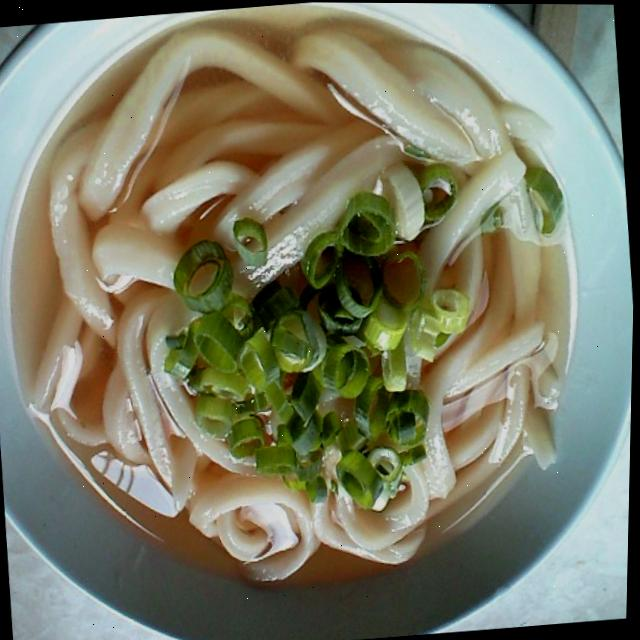面条主食: (0, 0, 638, 639)
